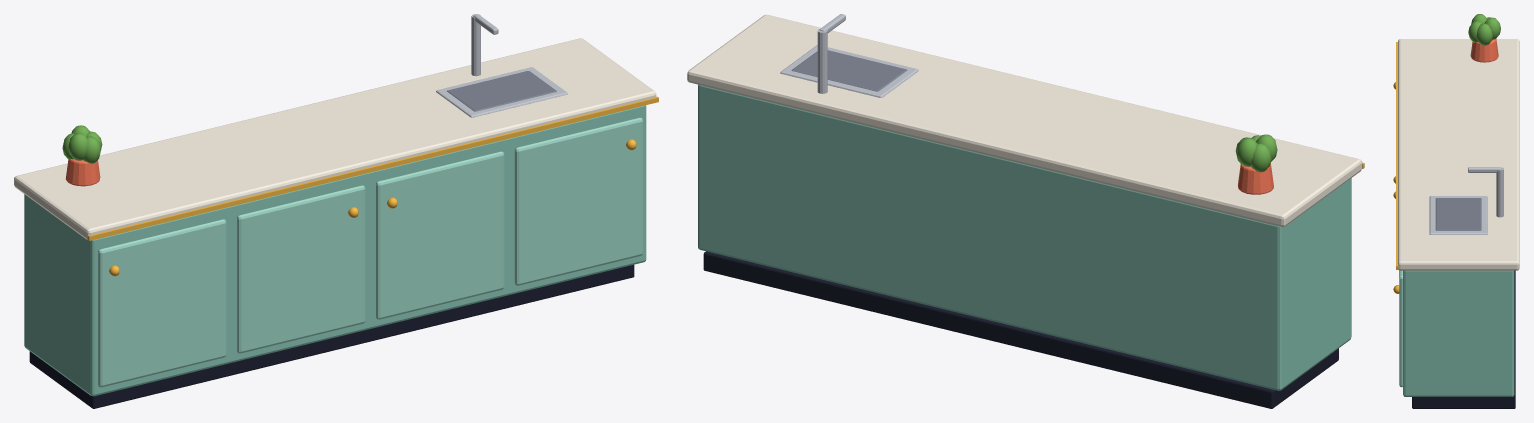
Rendered from kitchen_counter.glb.
3 views of the same model, side by side, from view 1: azimuth 30°, elevation 25°; view 2: azimuth 150°, elevation 25°; view 3: azimuth 270°, elevation 25° (orthographic). The views are drawn at different scales.
Visible parts, largest first — view 1: worktop, carcass, door3, door0, door2, door1, toe, edge, sinkHole, sink, pot; view 2: carcass, worktop, toe, sinkHole, sink, pot, faucet; view 3: worktop, carcass, sinkHole, toe, sink, pot, door3, edge, faucet, leaf0, leaf1, spout (+1 smaller).
Part boxes in pixels (x1,y1,x2,y2): worktop: [14, 38, 656, 240]; carcass: [24, 105, 646, 396]; door3: [514, 117, 643, 285]; door0: [98, 219, 226, 387]; door2: [376, 151, 504, 319]; door1: [237, 185, 365, 353]; toe: [29, 264, 634, 408]; edge: [87, 96, 658, 240]; sinkHole: [447, 71, 556, 111]; sink: [436, 67, 567, 117]; pot: [65, 159, 100, 186]; carcass: [698, 84, 1351, 390]; worktop: [687, 14, 1362, 226]; toe: [703, 251, 1338, 408]; sinkHole: [791, 50, 907, 91]; sink: [780, 45, 918, 97]; pot: [1238, 163, 1273, 194]; faucet: [817, 29, 827, 93]; worktop: [1398, 39, 1519, 270]; carcass: [1403, 270, 1514, 396]; sinkHole: [1435, 198, 1481, 230]; toe: [1412, 270, 1515, 408]; sink: [1429, 196, 1487, 234]; pot: [1470, 39, 1498, 62]; door3: [1399, 270, 1402, 387]; edge: [1396, 42, 1398, 269]; faucet: [1496, 167, 1503, 217]; leaf0: [1476, 23, 1492, 45]; leaf1: [1484, 17, 1500, 39]; spout: [1468, 167, 1501, 172].
Size of the model in its own units: 4.1 by 1.71 by 0.975.
